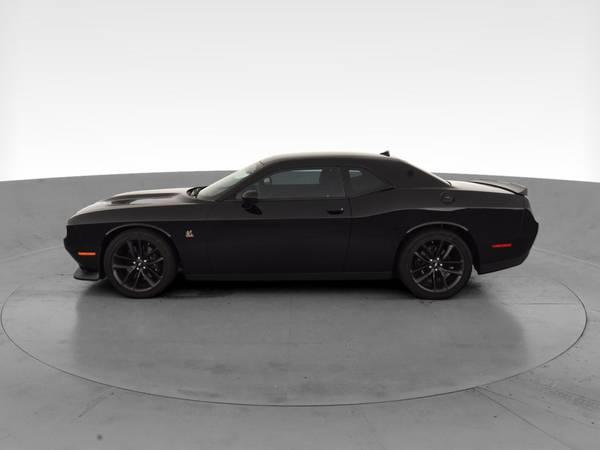Front_Bumper: (66, 241, 101, 281)
Front_Fender: (63, 199, 241, 276)
Front_Left_Door: (230, 195, 373, 278)
Front_Left_Window: (239, 163, 368, 197)
Hood: (69, 184, 213, 218)
Rear_Bumper: (480, 233, 537, 272)
Rear_Fender: (367, 167, 538, 281)
Roof: (215, 148, 453, 197)
Wheel: (102, 226, 175, 293), (413, 228, 484, 296)
